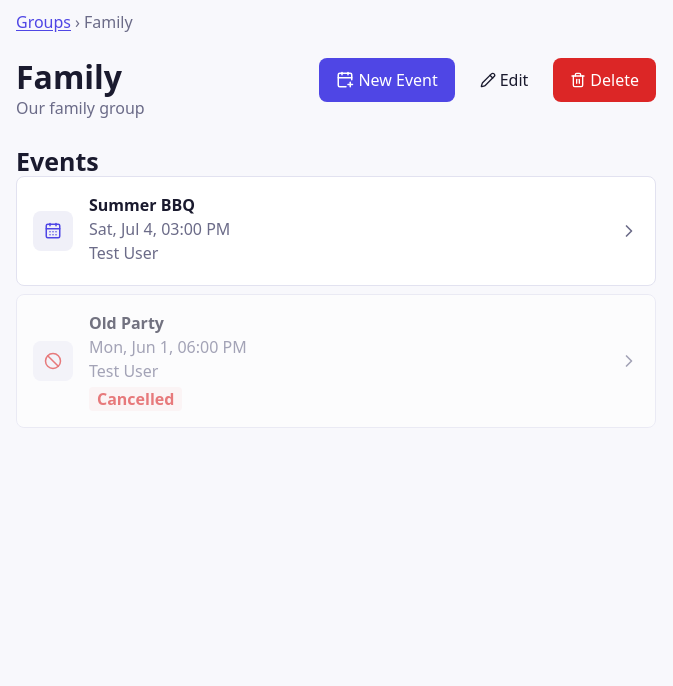
Scenario: GroupDetail › shows an error when deletion fails
This screenshot has width=673, height=686.
Click the button with aria-label "delete group".
click(605, 80)  # box [553, 58, 656, 102]
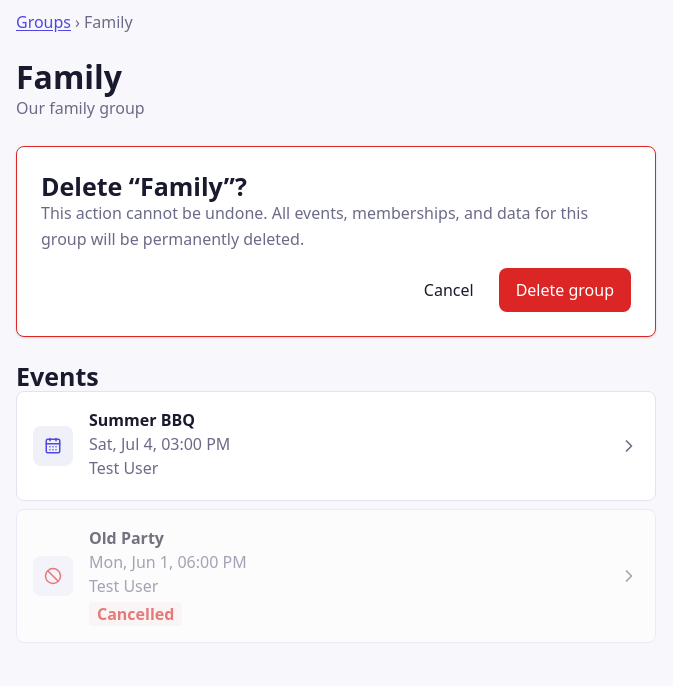
Click the button "Delete group".
click(565, 290)  # box [499, 268, 631, 312]
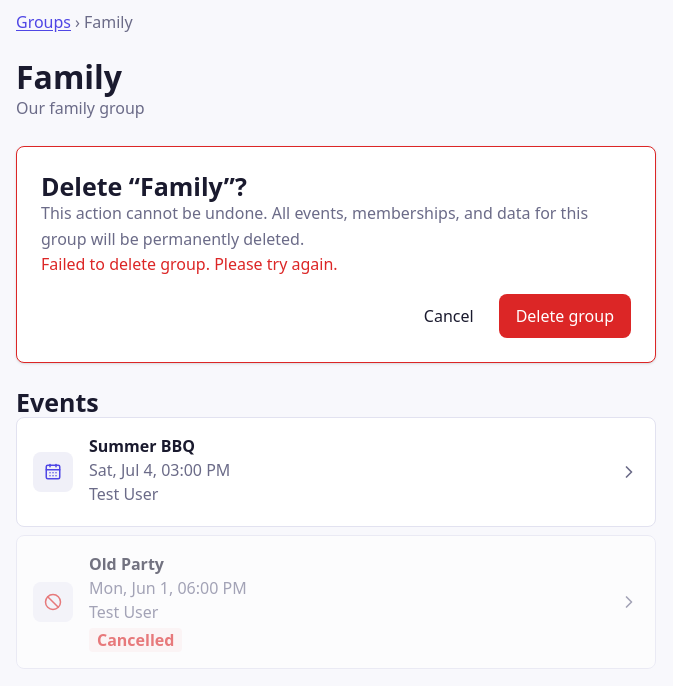
Expected: the message shows "Failed to delete group", [41, 253, 338, 275]
